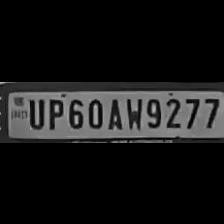0: (85, 94, 105, 128)
2: (162, 94, 182, 130)
6: (64, 94, 84, 130)
7: (200, 94, 220, 128), (182, 94, 198, 128)
9: (142, 94, 162, 128)
A: (104, 94, 124, 130)
P: (44, 94, 64, 130)
U: (26, 95, 44, 129)
W: (124, 94, 142, 130)
